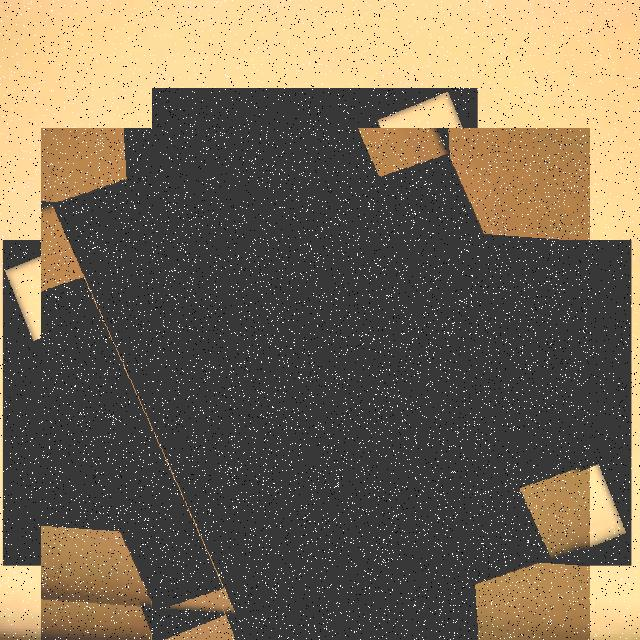dua puluh ribu rupiah: (41, 128, 590, 640)
